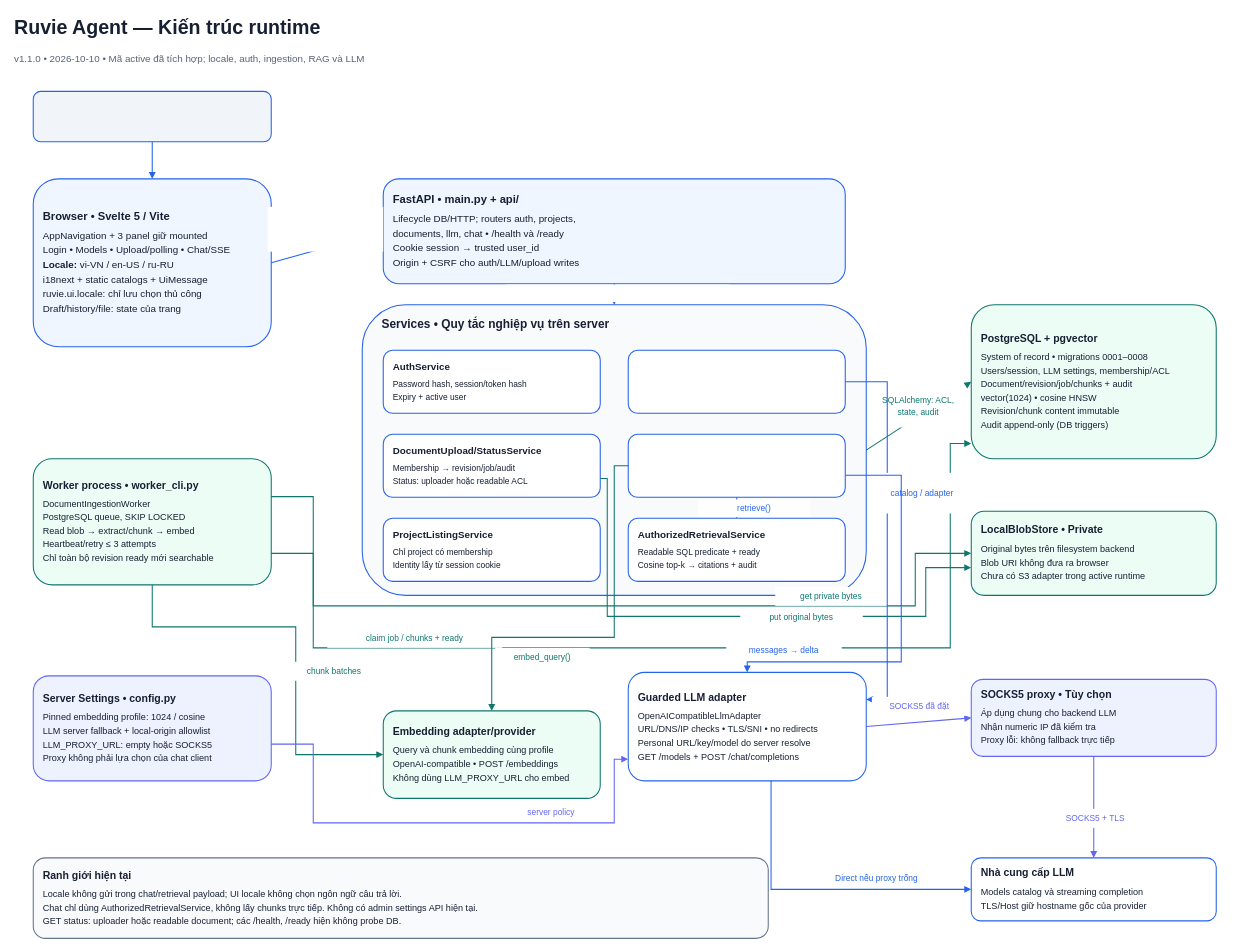
Image size: 1256x951. Some labels were removed from this diagram. The shapes that lost their labels are listed below. From the top down, each one's centre as x and y in pixels, then its label:
At (151,116): "Người dùng Đăng nhập, upload, hỏi đáp và chọn locale".
At (325,228): "Cookie • JSON/multipart • SSE".
At (617,293): "Trusted identity + validated input".
At (736,382): "LlmConnectionService Personal → server → none Kiểm tra catalog trước khi lưu".
At (736,466): "ChatService Model check → embed → retrieval Context → structured stream events".
